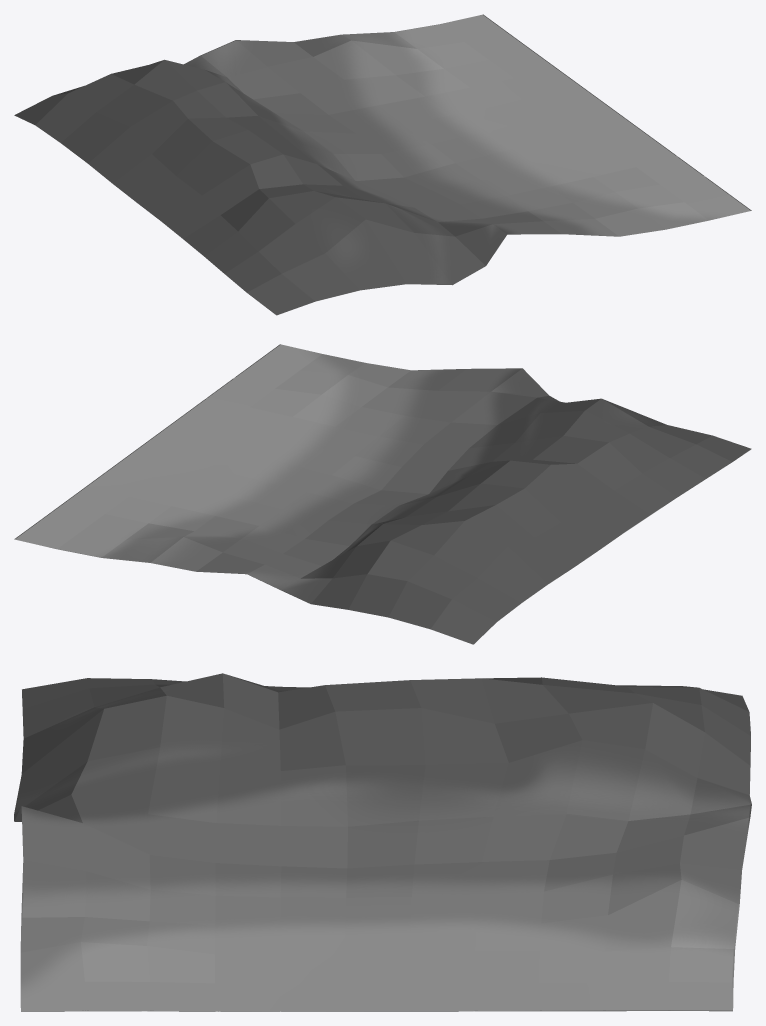
File: bigcheese.fbx
3 views of the same model, one above another, from view 1: azimuth 30°, elevation 25°; view 2: azimuth 150°, elevation 25°; view 3: azimuth 270°, elevation 25° (orthographic). The views are drawn at different scales.
Visible parts, largest first — view 1: Plane.001; view 2: Plane.001; view 3: Plane.001.
Boxes of the visible parts, x1=… form: Plane.001: x1=14, y1=14, x2=751, y2=315; Plane.001: x1=14, y1=344, x2=751, y2=644; Plane.001: x1=14, y1=673, x2=751, y2=1011.
Size of the model in its own units: 5656 by 719 by 5669.
1 material, 1 textured.
